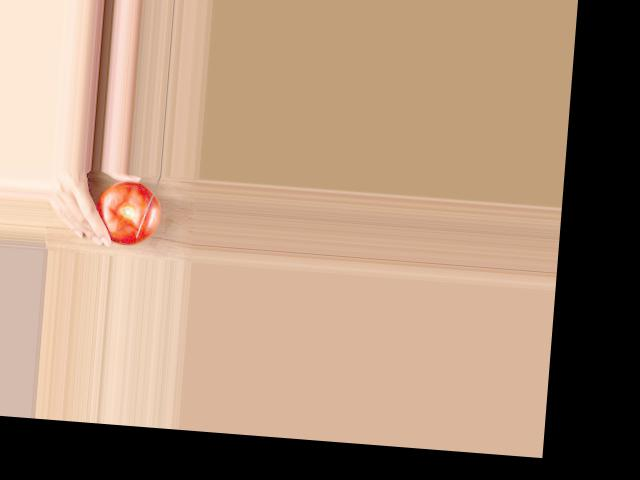tomato: (93, 179, 162, 247)
